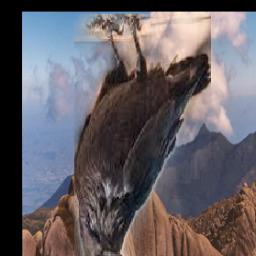Crow: (73, 14, 210, 256)
